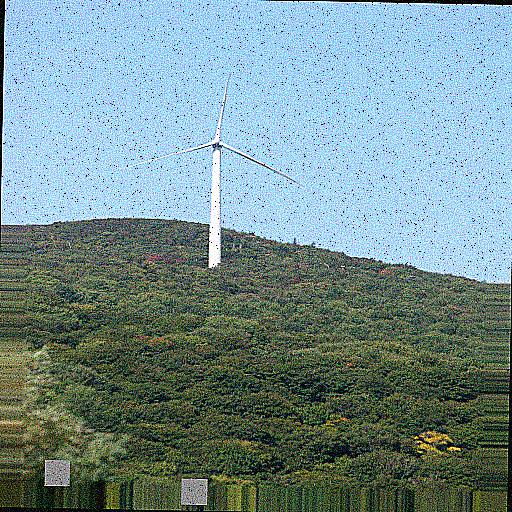wind turbine: (125, 73, 303, 266)
